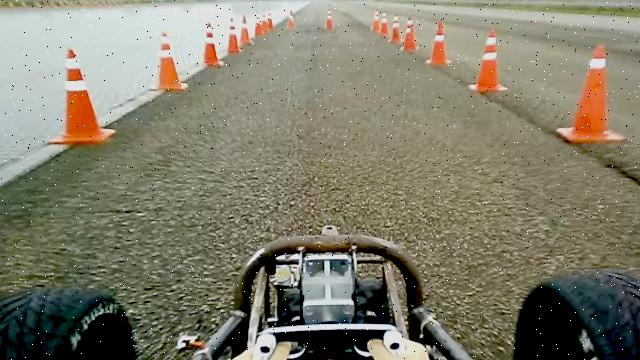red cone: (556, 43, 626, 143), (47, 49, 115, 145), (468, 28, 508, 93), (150, 31, 188, 90), (425, 19, 452, 66), (202, 20, 224, 67)
